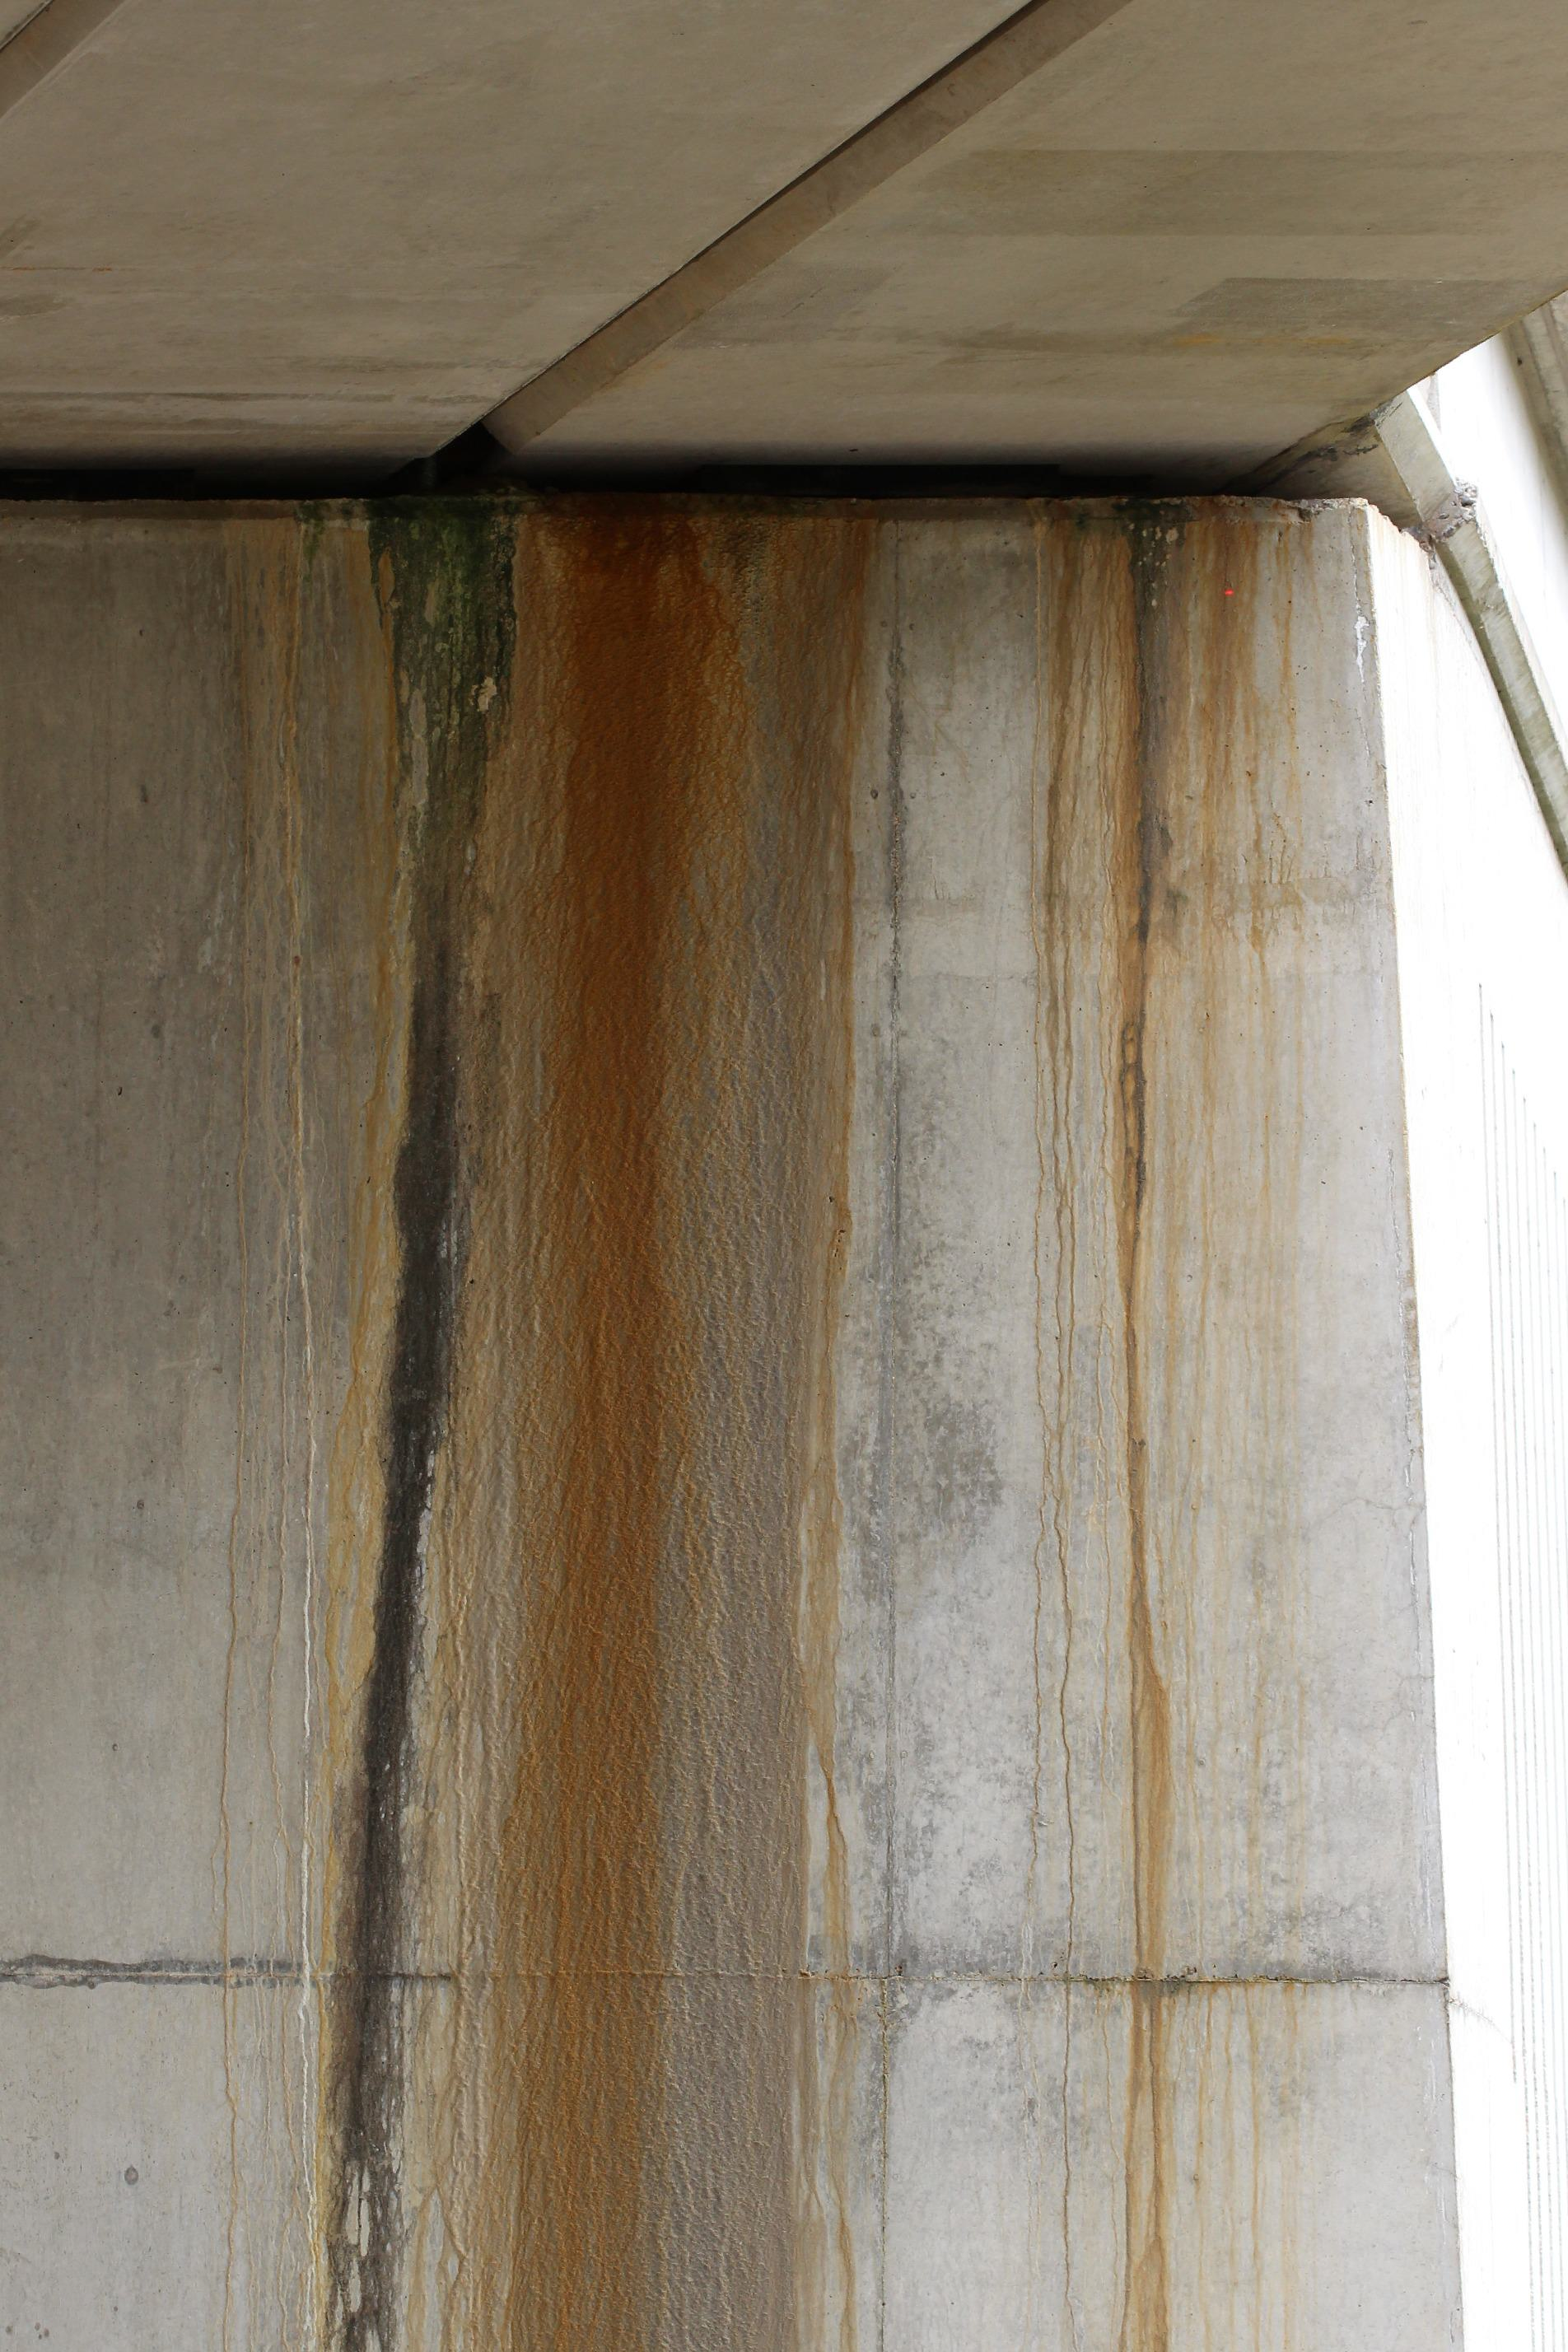Corrosion: (199, 497, 905, 2352), (1038, 493, 1319, 2352)
